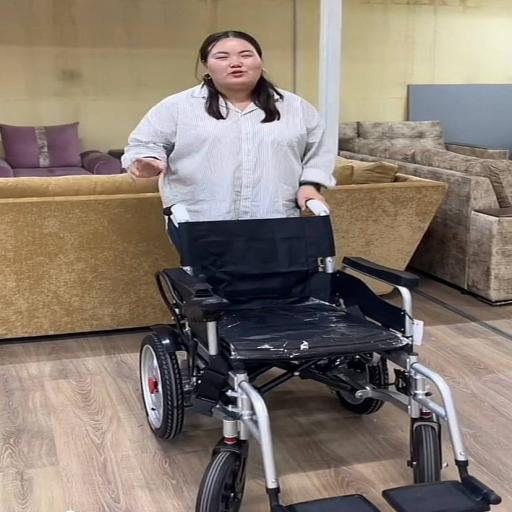laptop: (122, 31, 335, 220)
sidewalk: (339, 122, 511, 304), (0, 174, 178, 339), (0, 123, 123, 177)
wheelchair: (140, 202, 500, 511)
